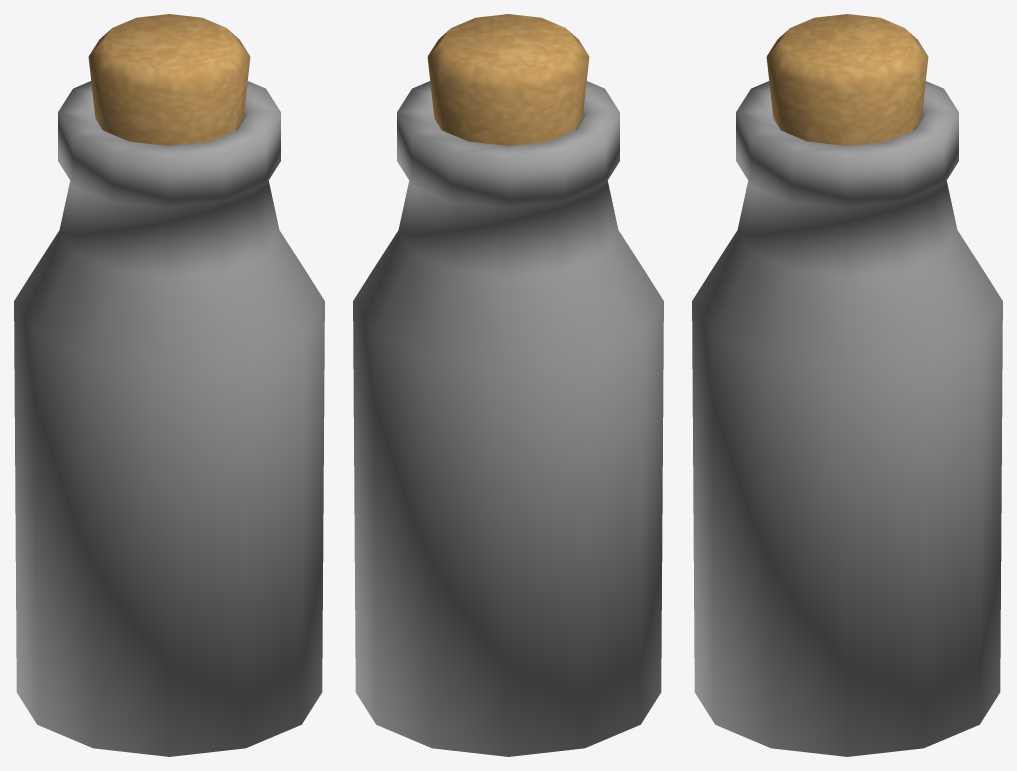
Rendered from marisa_bottle_4.FBX.
The picture shows the model from 3 angles, left to right: view 1: azimuth 30°, elevation 25°; view 2: azimuth 150°, elevation 25°; view 3: azimuth 270°, elevation 25°; orthographic projection.
Parts seen in each view (by area): view 1: potion 4; view 2: potion 4; view 3: potion 4.
Part boxes in pixels (box(x1,y1,x2,y2)): potion 4: box(14, 14, 324, 756); potion 4: box(353, 14, 663, 756); potion 4: box(692, 14, 1002, 756).
Bounding box in the file's own units: 59.82 × 138 × 59.82.
